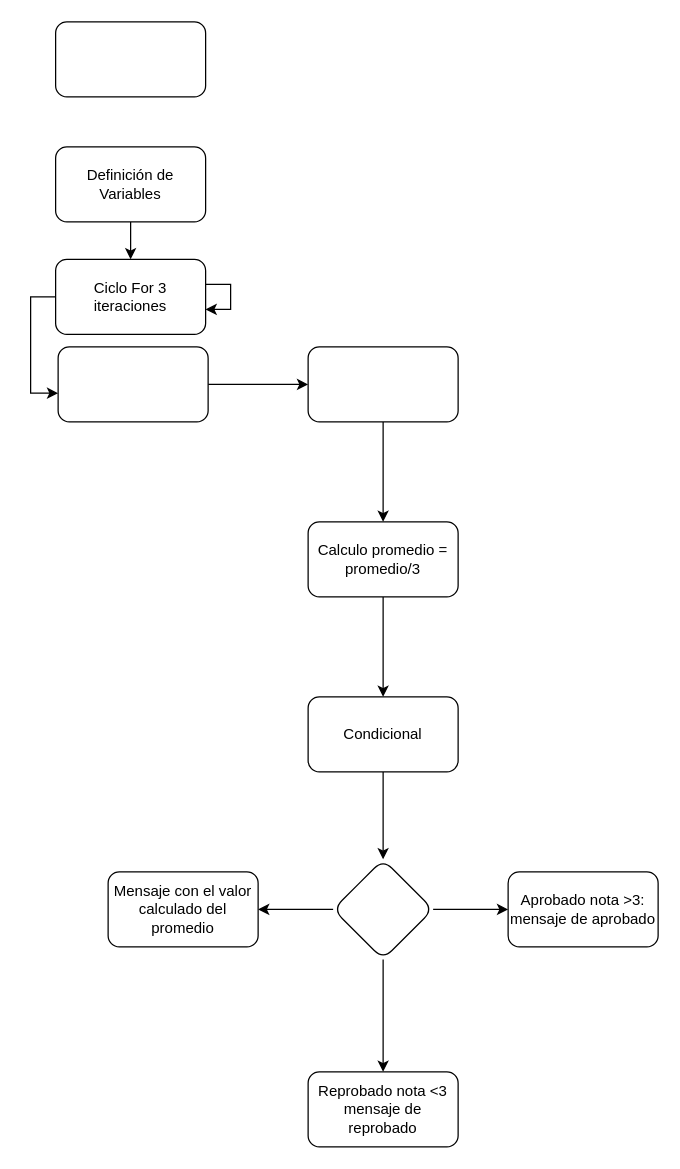
The diagram is 680 pixels wide and 1169 high, and some of its shapes have lost their labels. The shapes that lost their labels are listed below. From the top down, each one's box as (x1, y1, x2, y2) in pixels, then its label:
(54, 21, 206, 97): Iniciio
(57, 346, 208, 422): Usuario debe digitar nota
(307, 346, 458, 422): Captura valor nota
